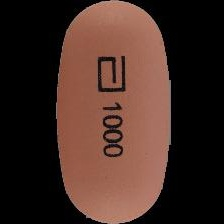68382-203: (0, 0, 224, 224)
